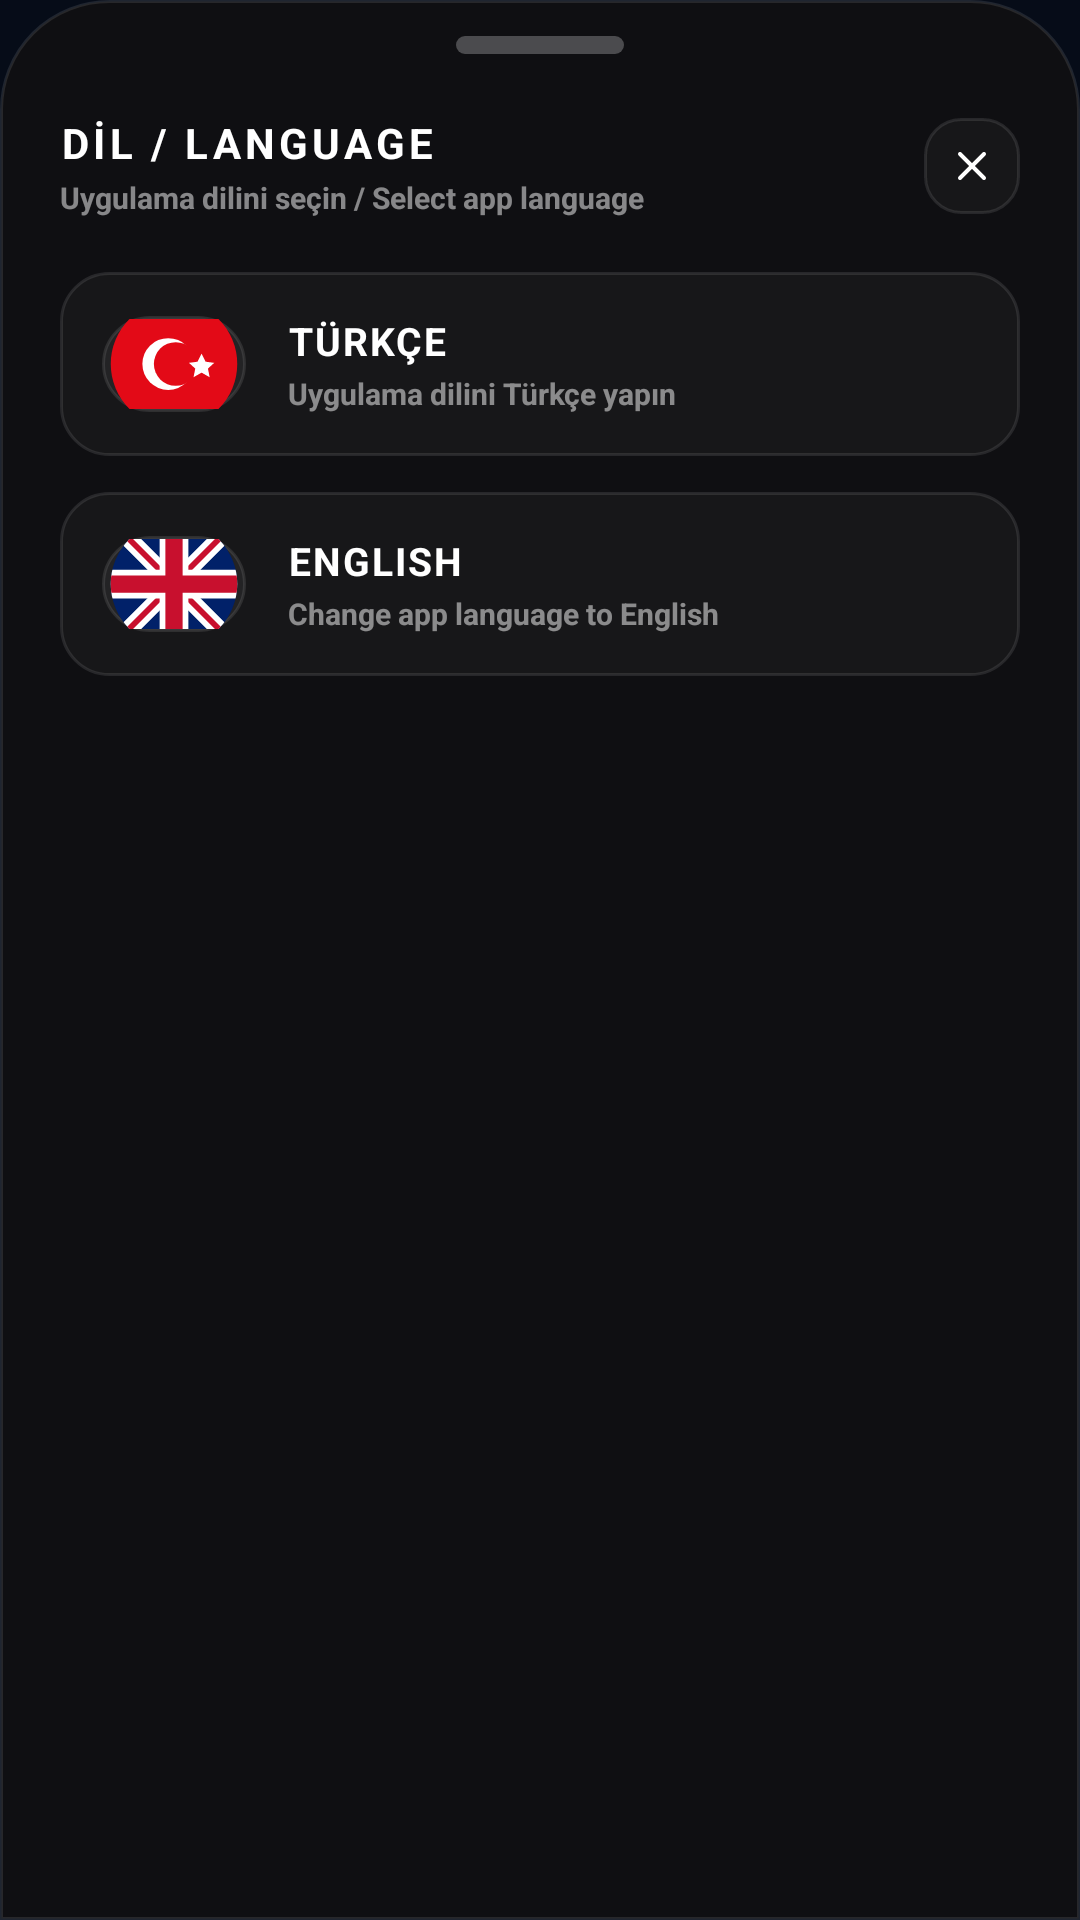

Where to tap for icons on this 1080x1920 app screen, as point (x, y):
close: point (972, 166)
flag tr: point (174, 364)
flag uk: point (174, 584)
